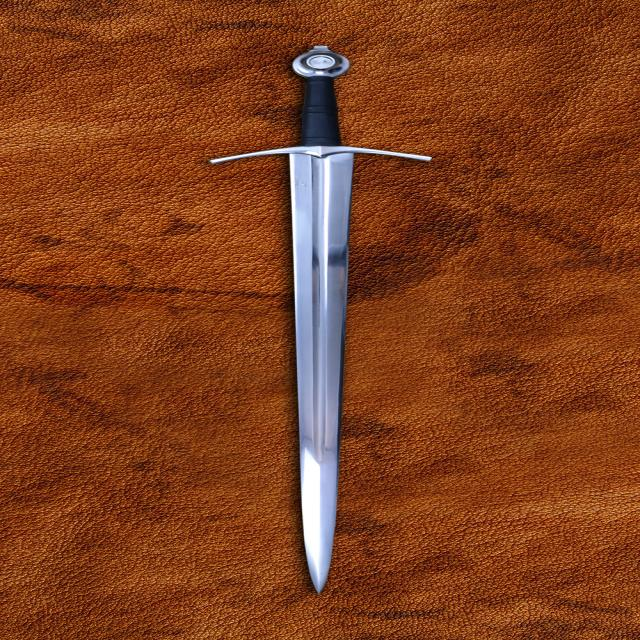Weapon: (204, 43, 441, 600)
